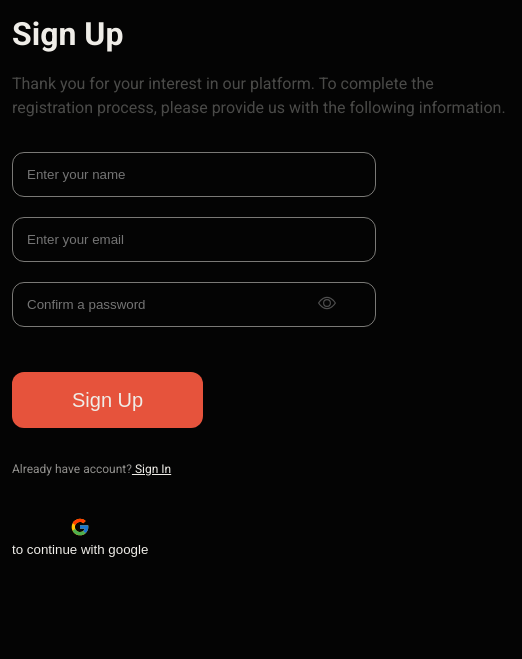
Scenario: Form registration component › displays error message on failed registration
This screenshot has width=522, height=659.
Type "User" into the field labelled "name" at (194, 174), box [12,152,376,197]
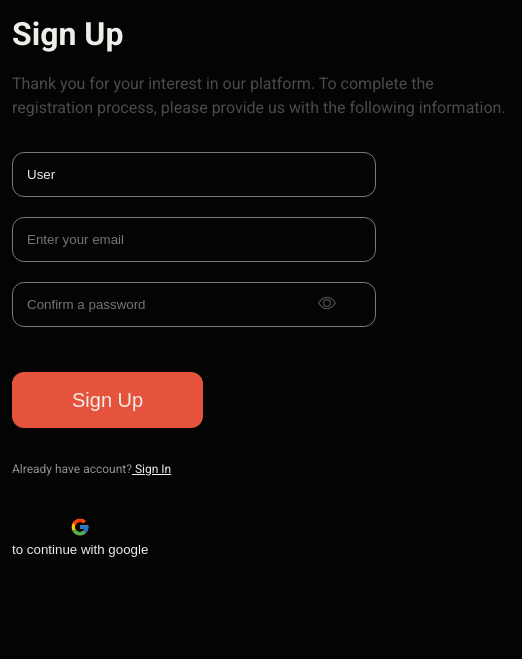
Type "test@example.com" into the field labelled "email" at (194, 240), box [12,217,376,262]
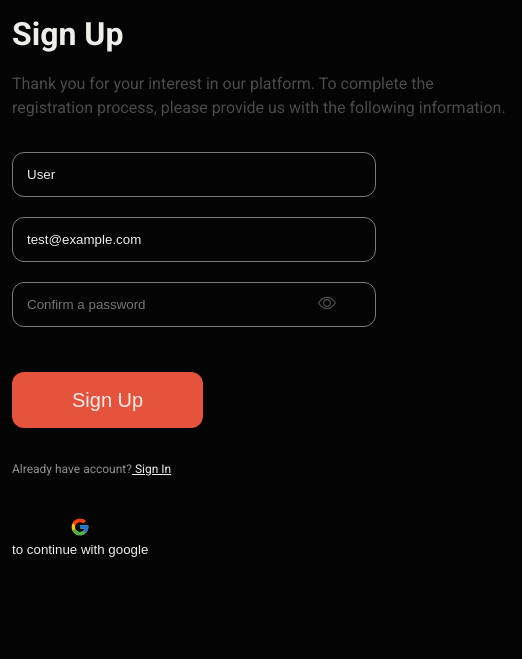
Type "password123" into the password field labelled "password" at (194, 304), box [12,282,376,327]
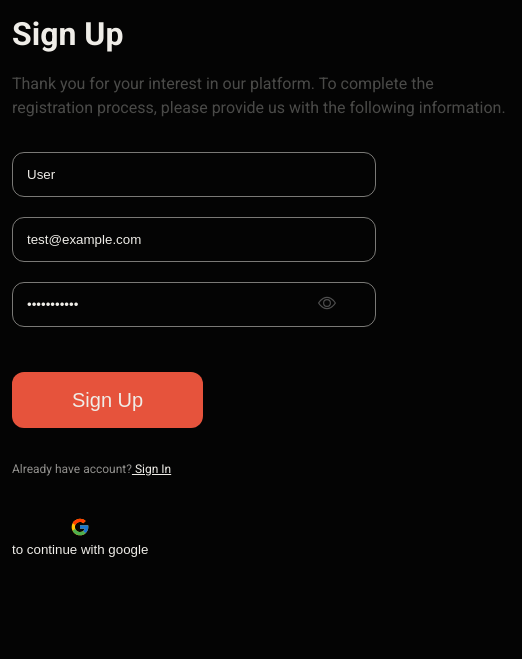
Click the button "Sign Up" at (108, 400), box [12,372,203,428]
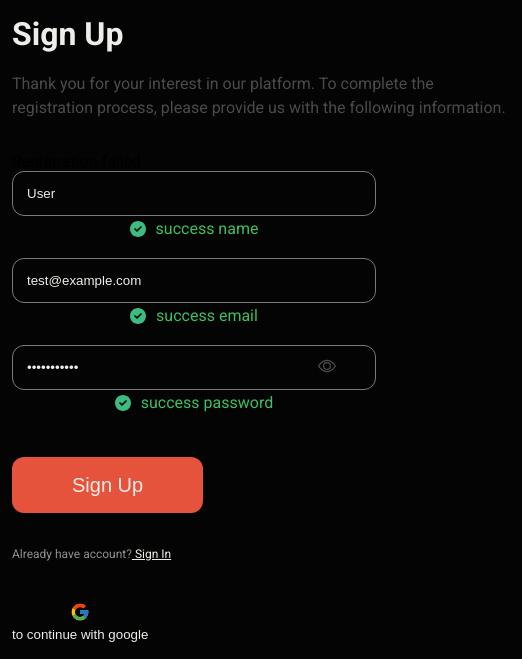
expect the text "Registration failed" is shown: met, box [12,152,141,171]
